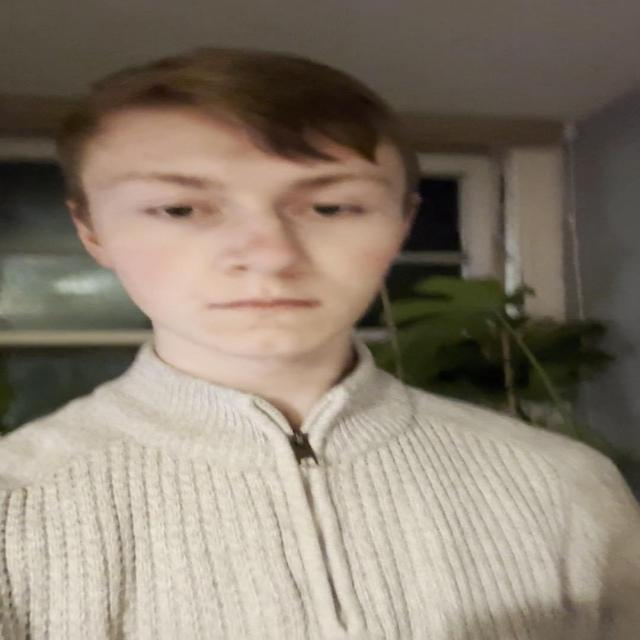no-helmet: (73, 88, 415, 358)
